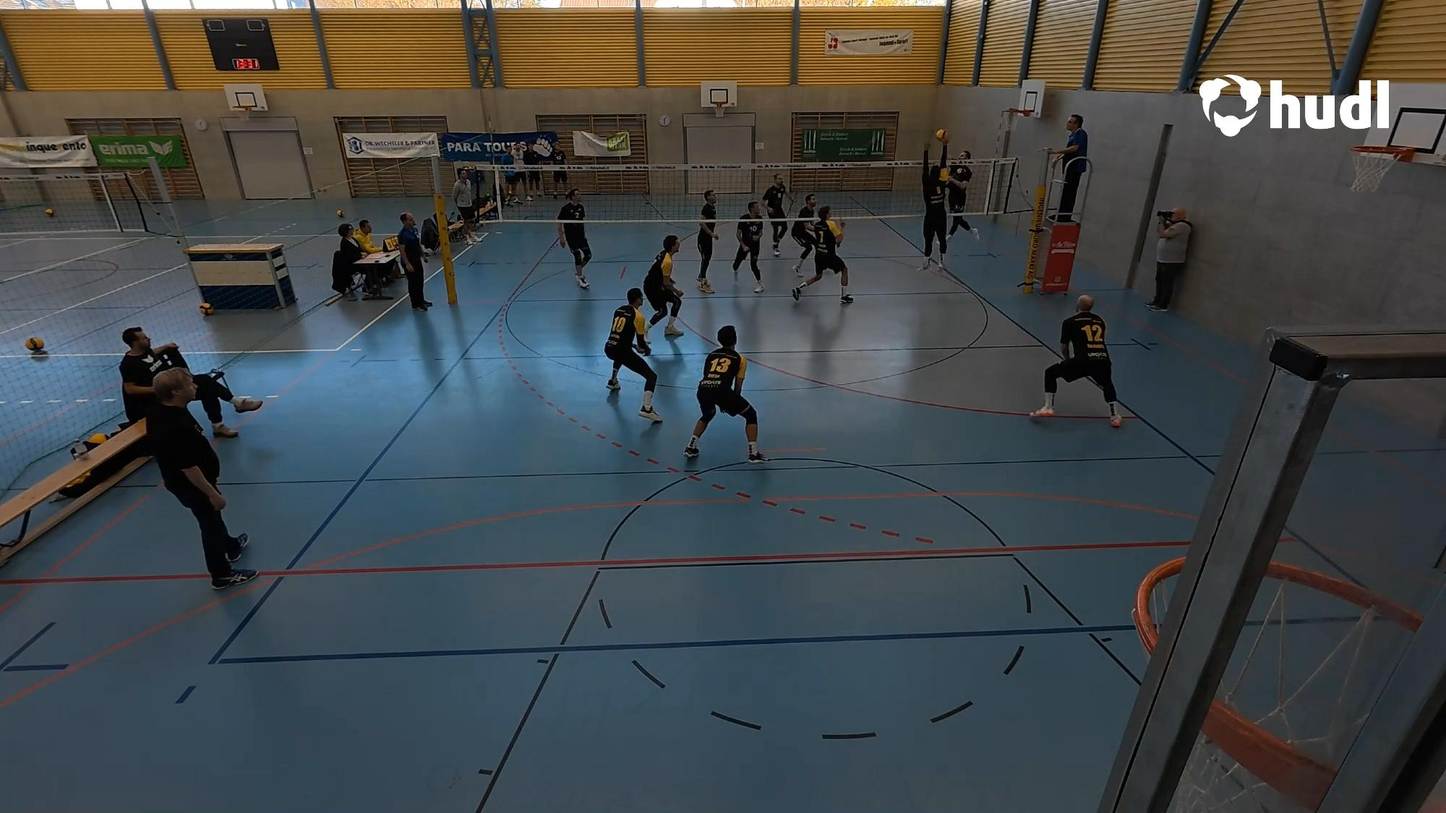Attack: (938, 145, 979, 251)
Block: (915, 141, 956, 273)
Player: (1030, 294, 1126, 428), (685, 327, 766, 464), (603, 289, 664, 422), (792, 206, 854, 304), (643, 237, 690, 346), (557, 191, 593, 291), (730, 203, 765, 295), (694, 192, 720, 291), (789, 190, 817, 277), (761, 172, 790, 248)
ball: (933, 129, 949, 143)
